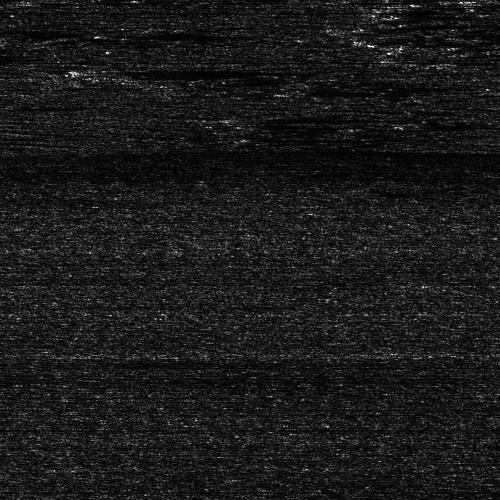rock: (46, 68, 139, 75), (457, 0, 488, 14), (386, 121, 439, 128)
shadow: (93, 68, 292, 75), (413, 121, 500, 128)
